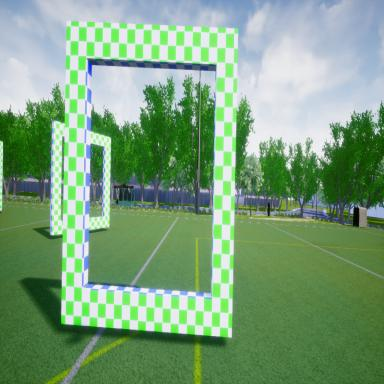gate: (60, 13, 238, 350), (48, 114, 113, 243)
